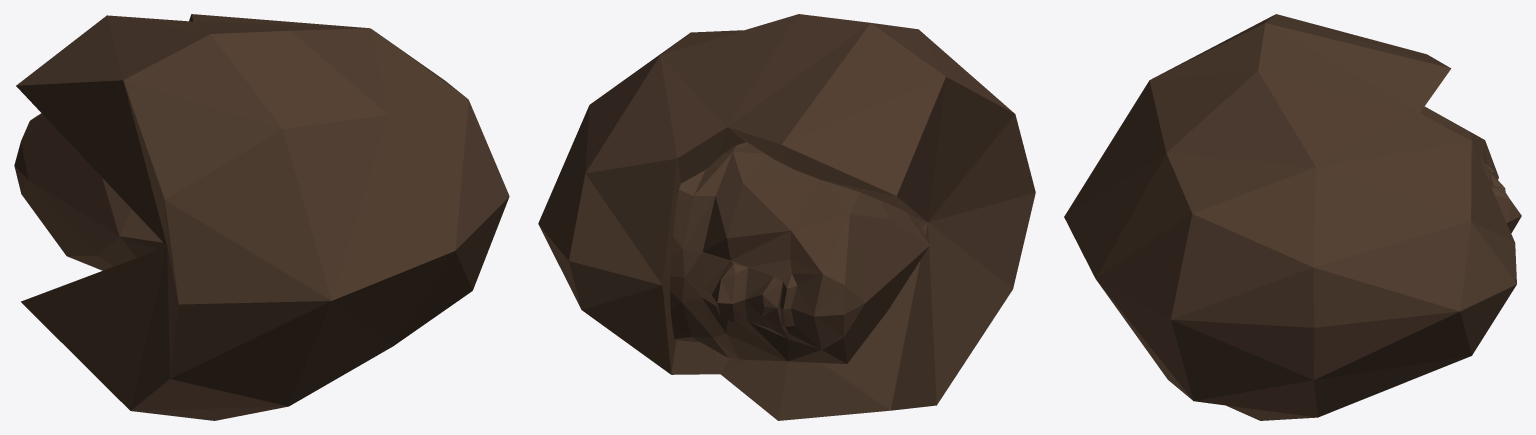
Rendered from HUM_HEAD_BABE5.OBJ.
The picture shows the model from 3 angles, left to right: view 1: azimuth 30°, elevation 25°; view 2: azimuth 150°, elevation 25°; view 3: azimuth 270°, elevation 25°; orthographic projection. The views are drawn at different scales.
Parts seen in each view (by area): view 1: HUM_HEAD_BABE5; view 2: HUM_HEAD_BABE5; view 3: HUM_HEAD_BABE5.
Part boxes in pixels (x1,y1,x2,y2): HUM_HEAD_BABE5: (14,14,509,420); HUM_HEAD_BABE5: (538,14,1035,420); HUM_HEAD_BABE5: (1064,14,1521,420).
Size of the model in its own units: 0.2774 by 0.2714 by 0.3014.
